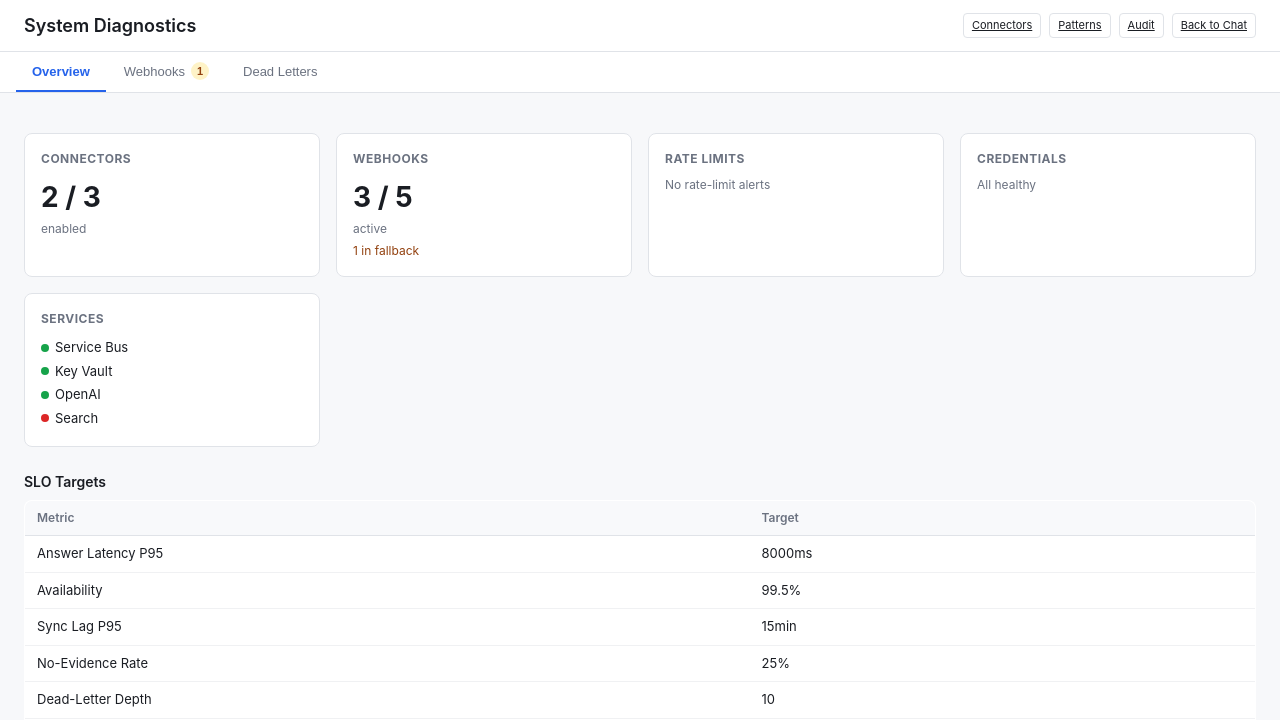
Test case: DiagnosticsPage › switches to dead-letters tab and loads data
Click the button with test id "tab-dead-letters".
click(280, 72)  # box top-left (227, 52), bottom-right (333, 92)
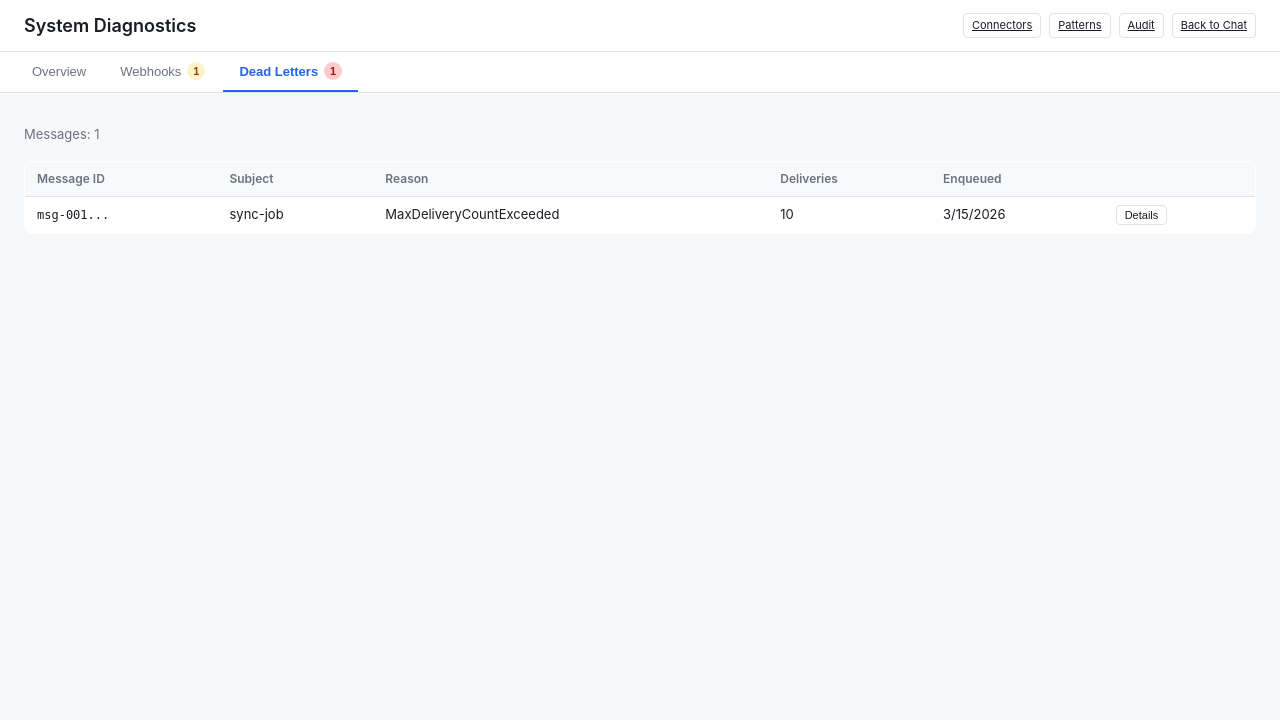
Check: the element with test id "dead-letter-panel" is shown, box top-left (24, 117), bottom-right (1256, 234)
Check: the text "MaxDeliveryCountExceeded" is shown, box top-left (373, 196), bottom-right (768, 233)
